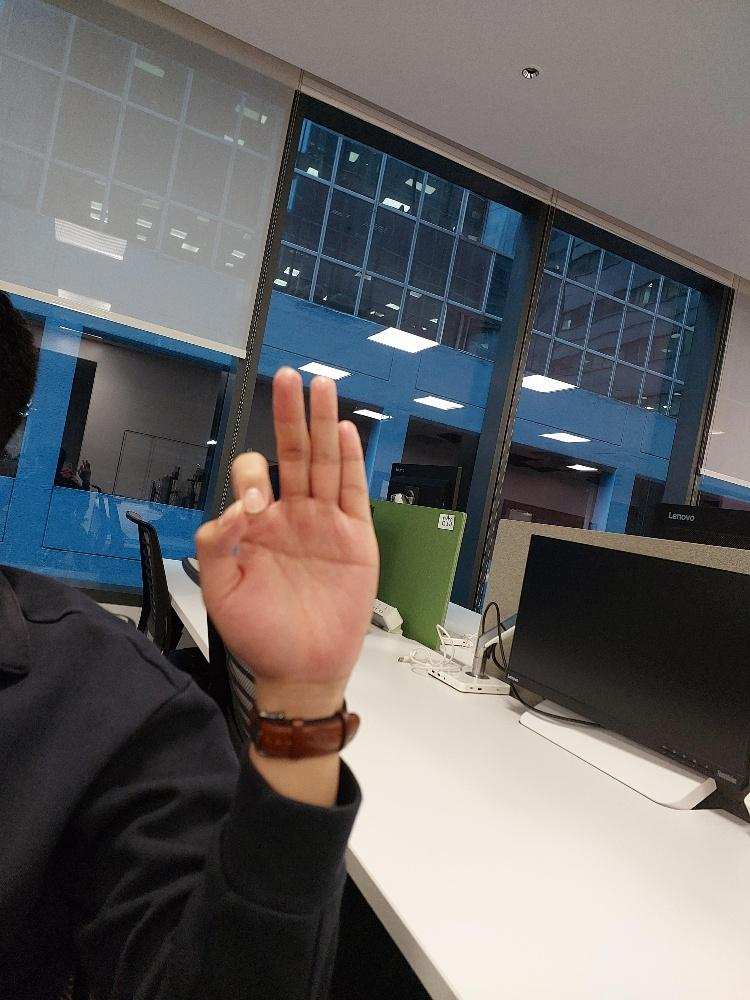f: (195, 363, 377, 675)
